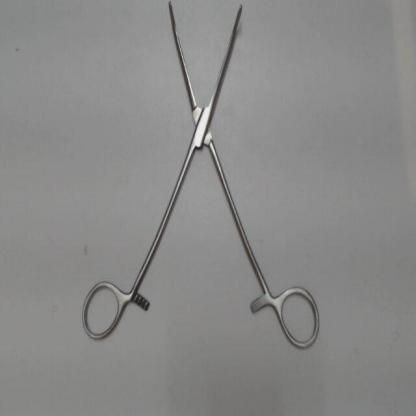Lahey Forceps: (75, 1, 324, 353)
